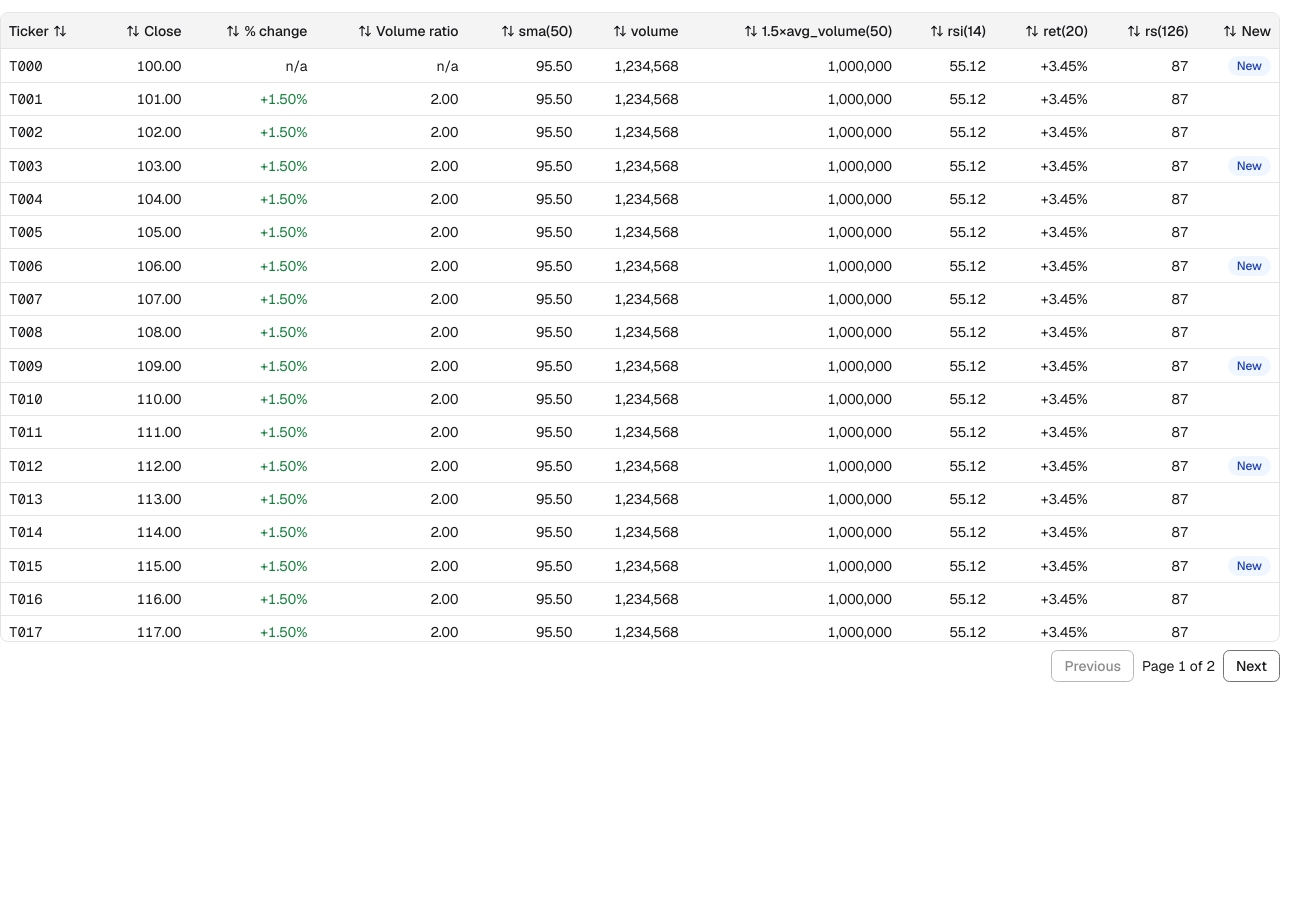
Test case: ResultsTable › shows the lone 51st row on the last page and disables Next there
Click the button "Next": [1251, 666] box x1=1223 y1=650 x2=1280 y2=682
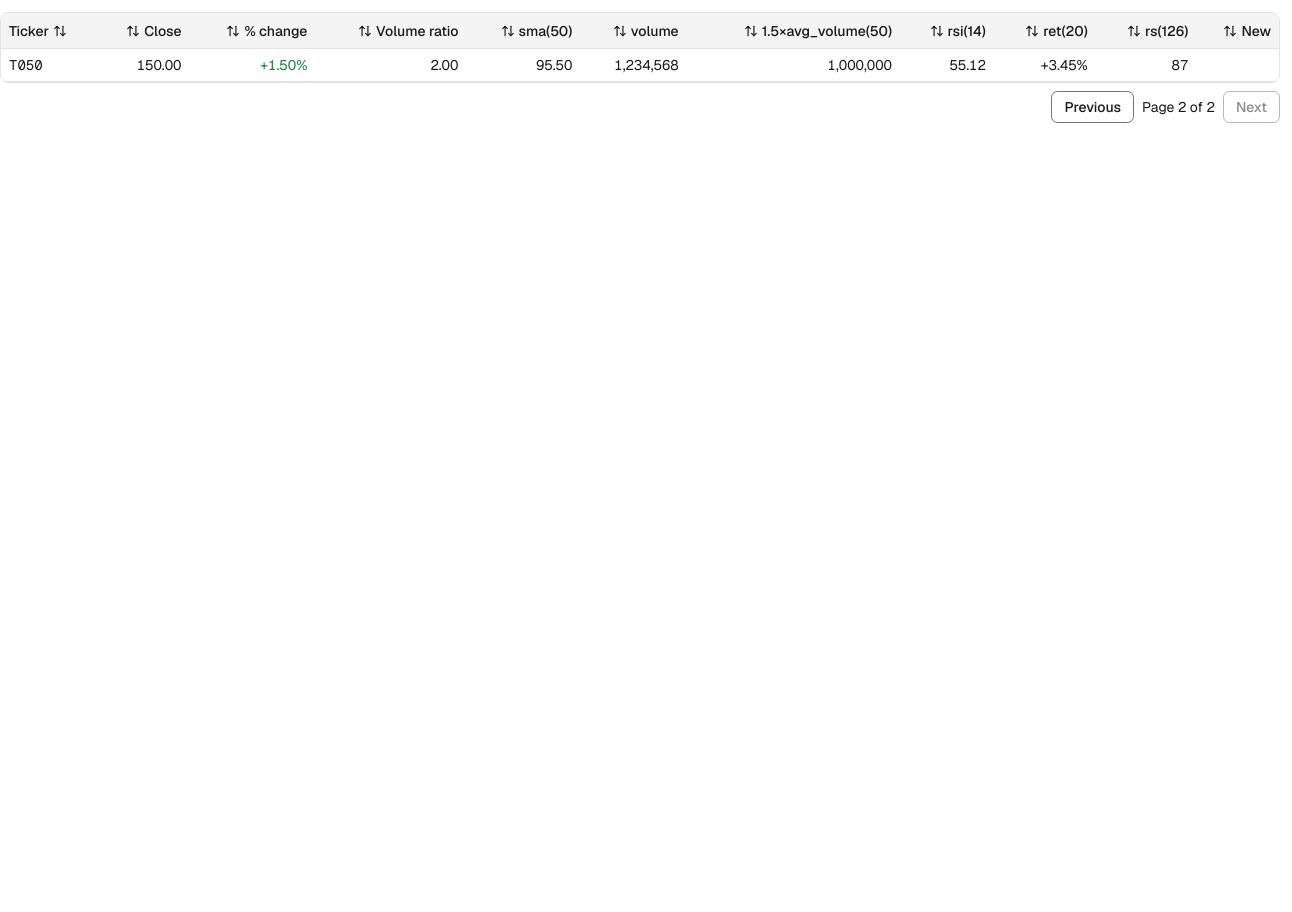
Check: the text "Page 2 of 2" is shown, box x1=1142 y1=97 x2=1215 y2=117
Check: the cell "T050" is shown, box x1=1 y1=49 x2=97 y2=82
Check: the button "Next" is disabled, box x1=1223 y1=91 x2=1280 y2=123
